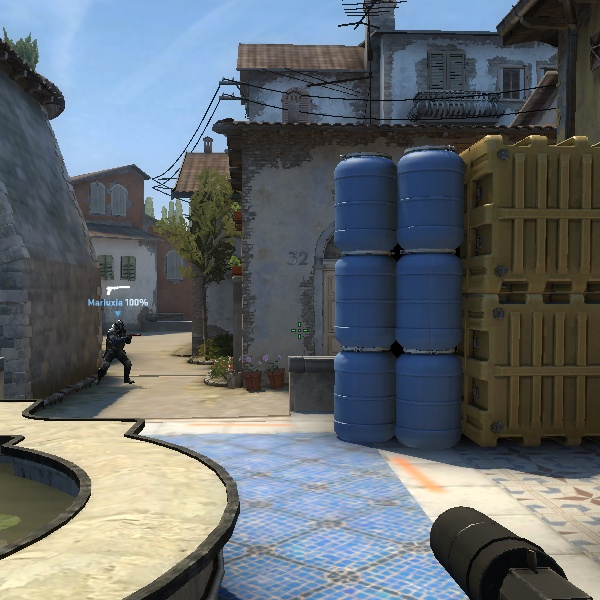ct_body: (100, 316, 137, 384)
